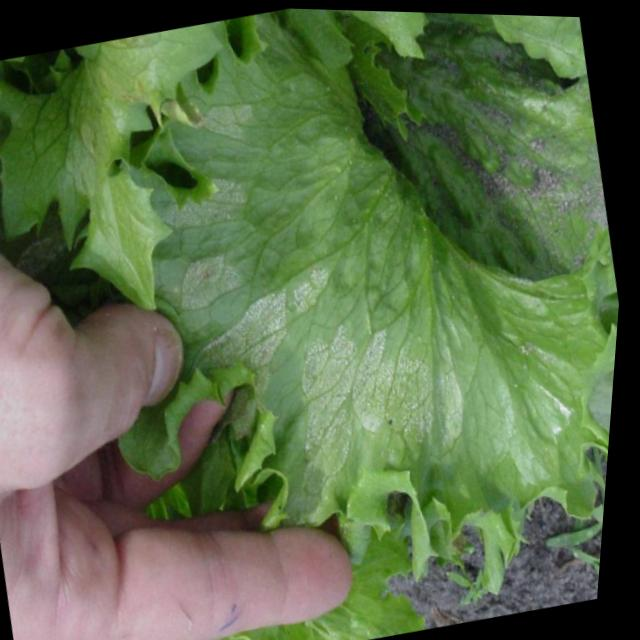Bad: (142, 64, 618, 592)
